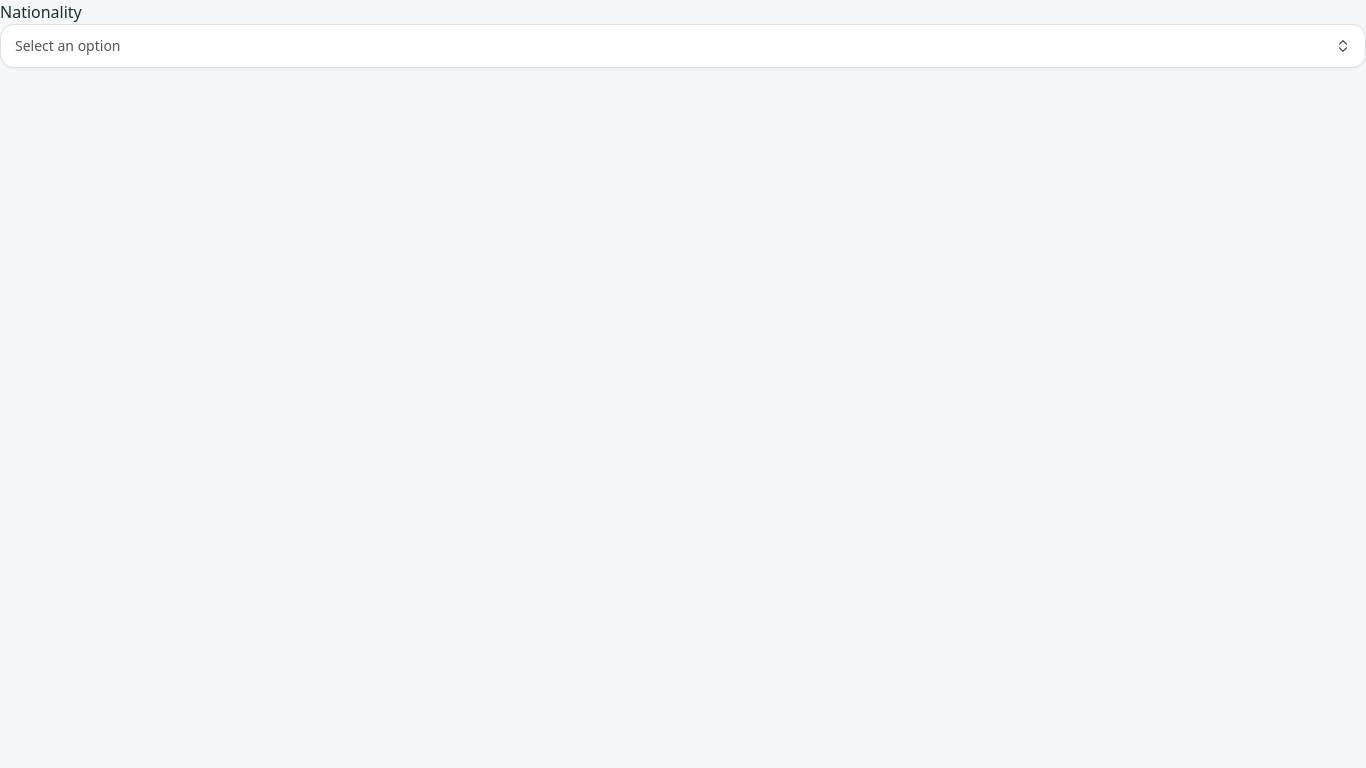
Test case: reference choices › searches country names, supports keyboard choice, and submits the selected value
Click the dropdown named "Nationality": (68, 46) left=0, top=24, right=1365, bottom=68
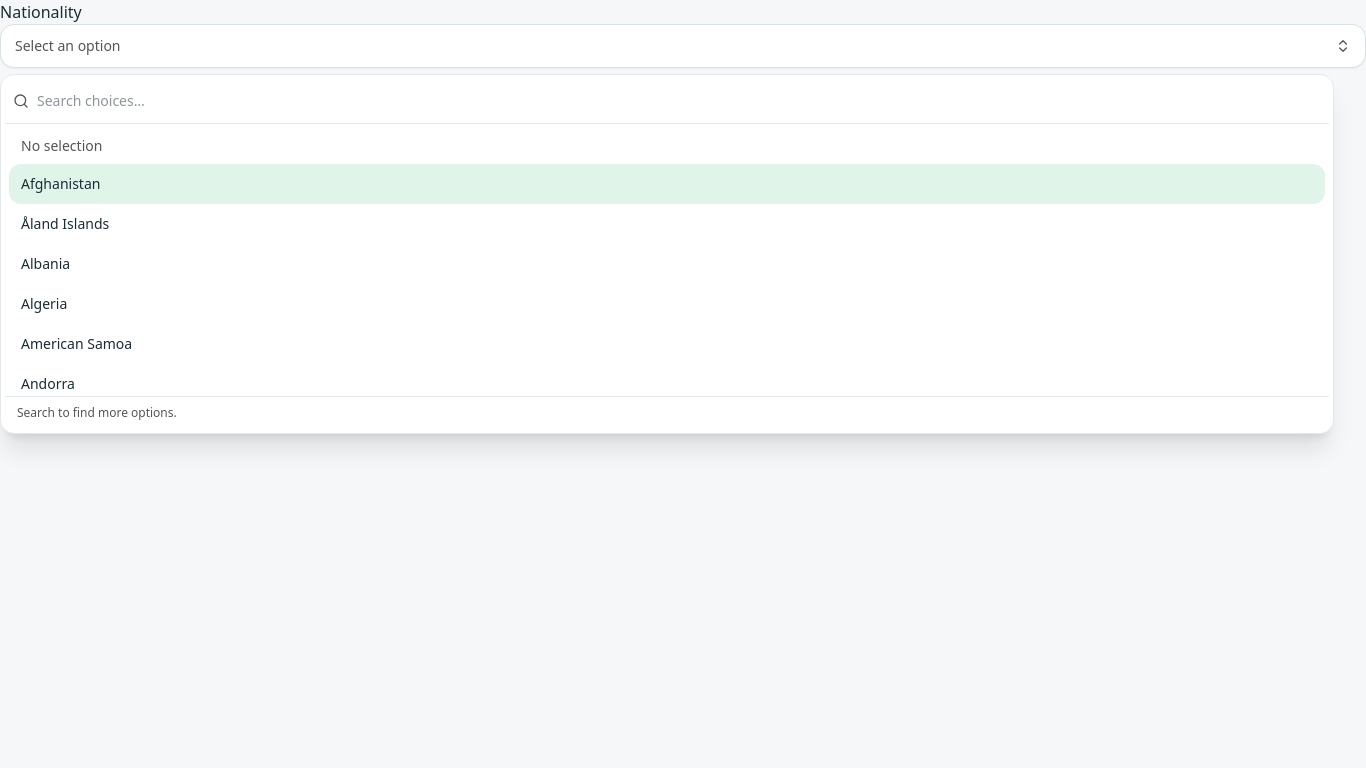
In the dropdown labelled "Search choices": (679, 101) left=37, top=87, right=1321, bottom=115, type "Egypt"
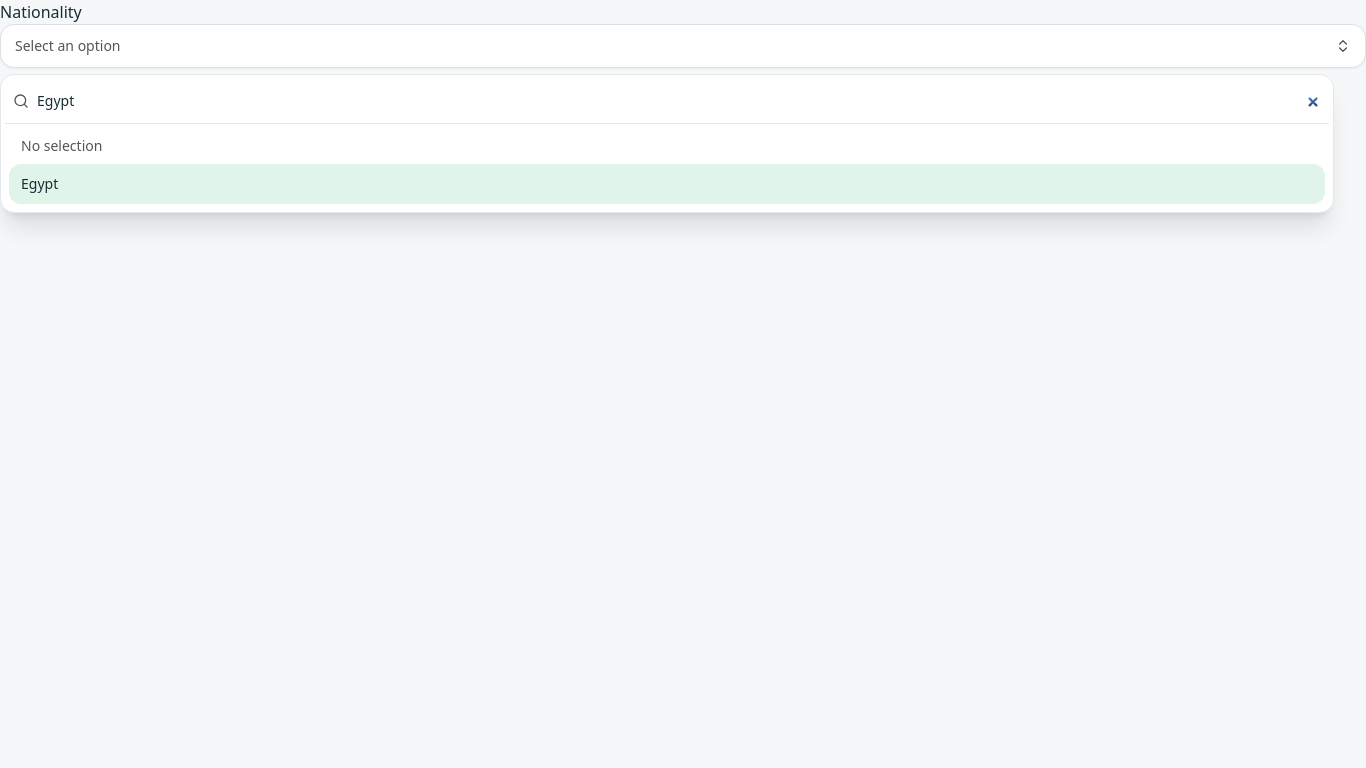
Press Enter
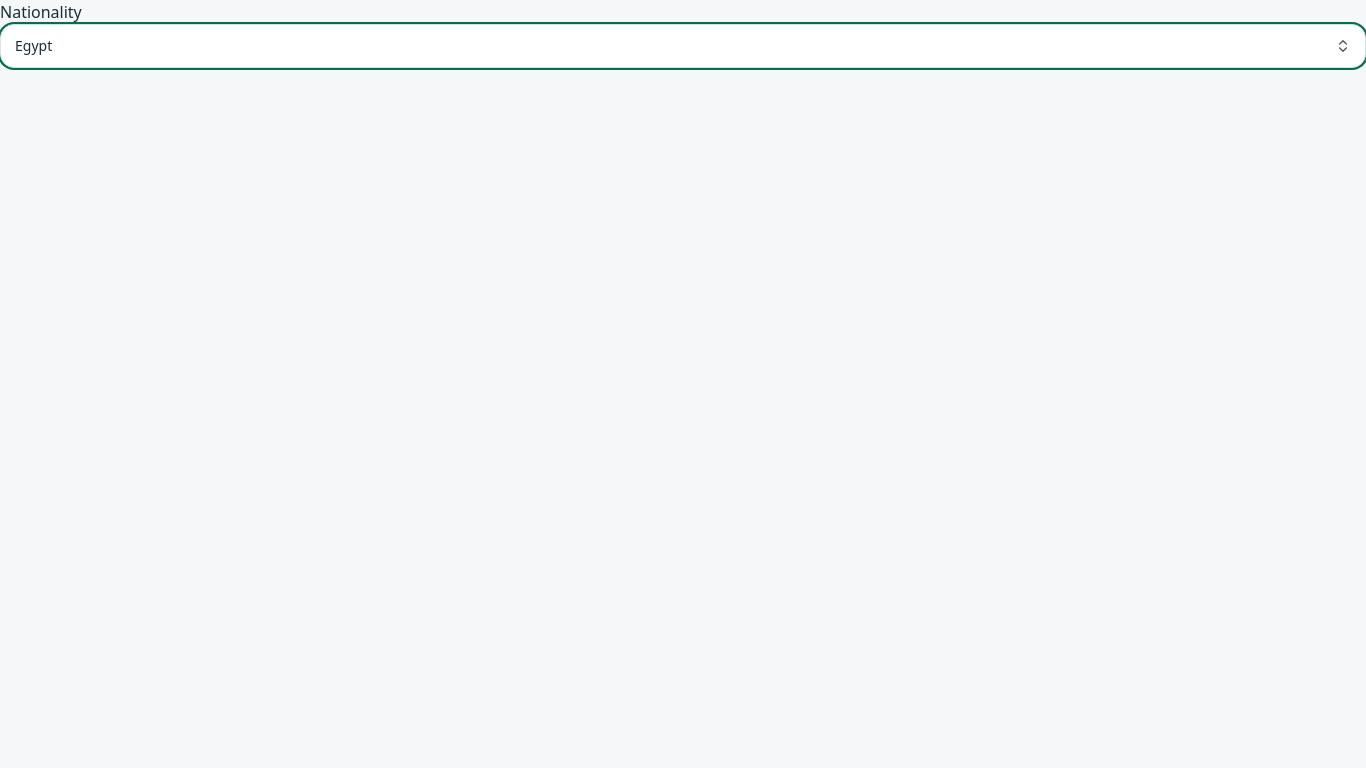
Check: the dropdown named "Nationality" reads "Egypt", box left=0, top=24, right=1365, bottom=68
Check: the list is gone
